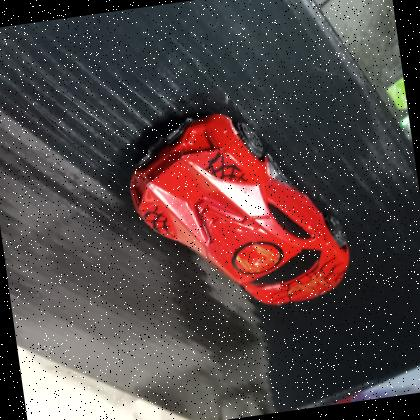Car: (113, 89, 363, 331)
